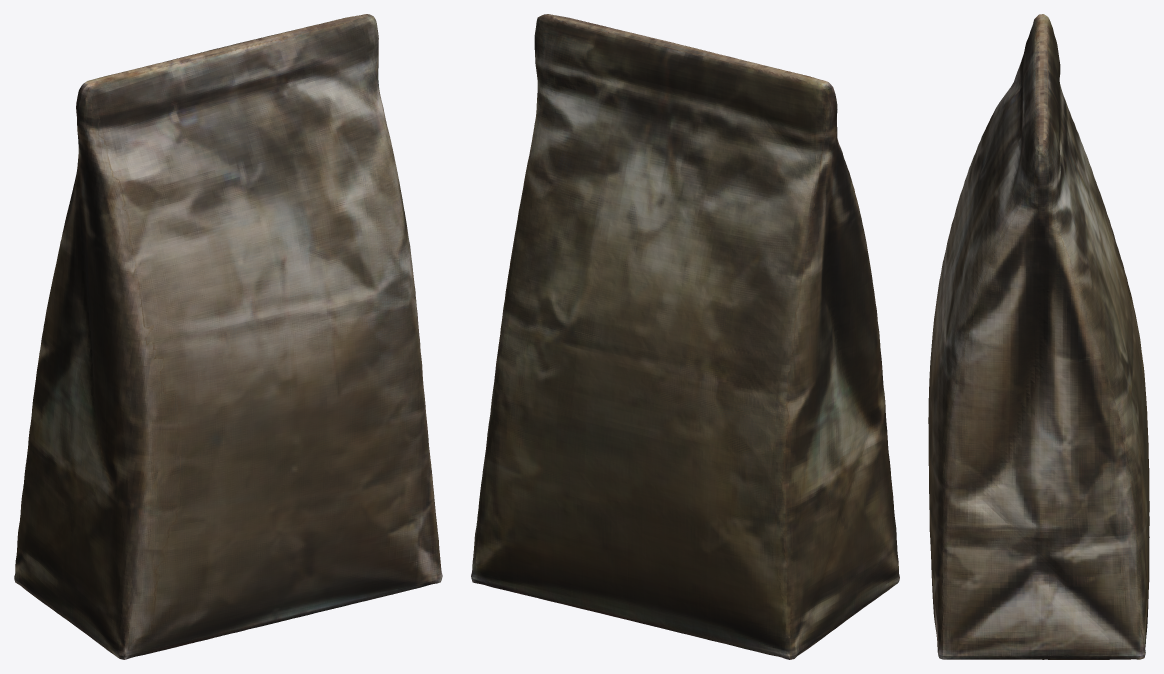
File: a brown paper bag.glb
The picture shows the model from 3 angles, left to right: view 1: azimuth 30°, elevation 25°; view 2: azimuth 150°, elevation 25°; view 3: azimuth 270°, elevation 25°; orthographic projection. The views are drawn at different scales.
Size of the model in its own units: 0.6372 by 1.01 by 0.3951.
Materials: 1 (1 with a texture image).
